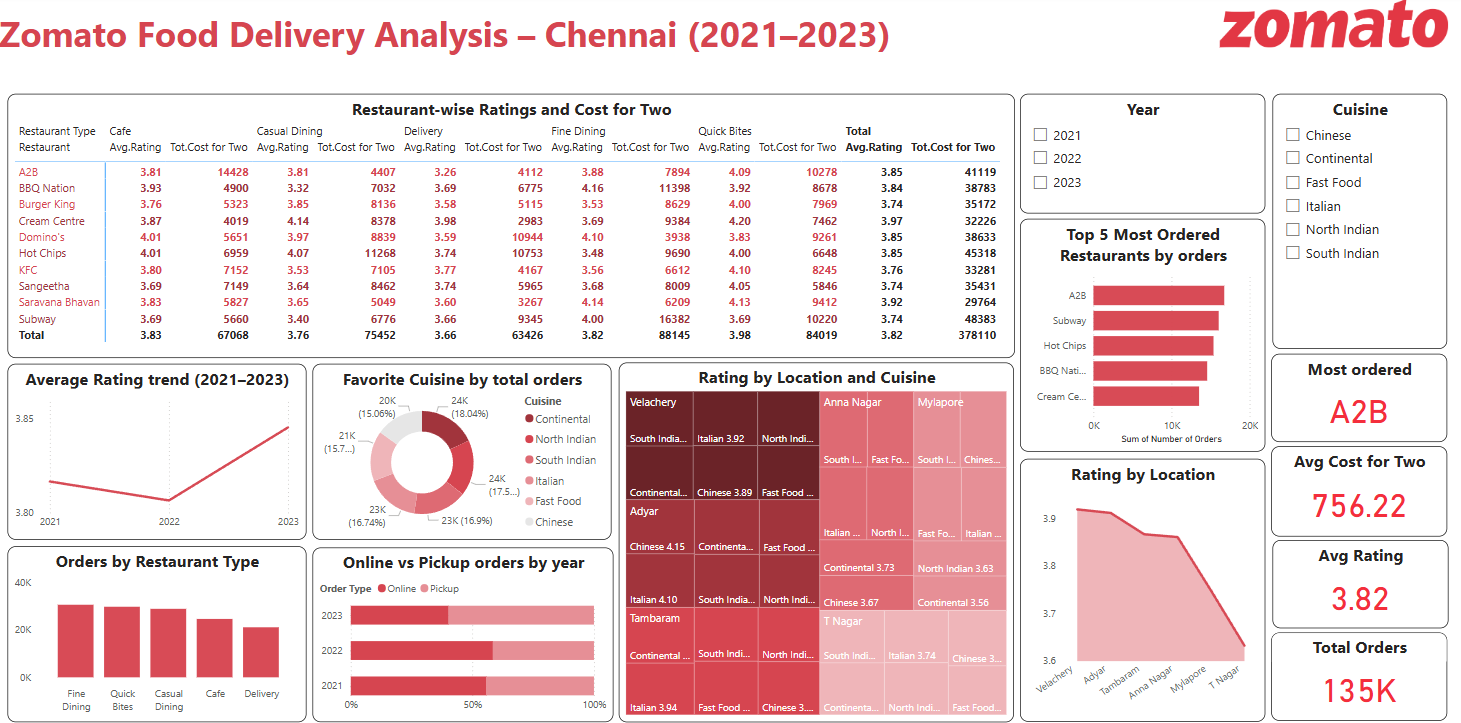

The dashboard page shown, as its layout file describes it:
{"tool":"powerbi","page":{"name":"Page 1","canvas":[1800,900],"ordinal":0},"visuals":[{"type":"textbox","box":[0,12,1136,96.1],"z":0},{"type":"clusteredBarChart","title":"Top 5 Most Ordered Restaurants by orders","fields":{"Category":["Sheet1.Restaurant"],"Y":["Sum(Sheet1.Number of Orders)"]},"box":[1253.3,273.3,300,285],"z":1000},{"type":"donutChart","title":"Favorite Cuisine by total orders","fields":{"Category":["Sheet1.Cuisine"],"Y":["Sum(Sheet1.Number of Orders)"]},"box":[388.2,450.9,365.3,215.5],"z":2000},{"type":"lineChart","title":"Average Rating trend (2021–2023)","fields":{"Category":["Sheet1.Year"],"Y":["Avg(Sheet1.Rating)"]},"box":[15.3,450.9,365.3,215.5],"z":3000},{"type":"clusteredColumnChart","title":"Orders by Restaurant Type","fields":{"Category":["Sheet1.Restaurant Type"],"Y":["Sum(Sheet1.Number of Orders)"]},"box":[15.3,674.1,365.3,215.5],"z":4000},{"type":"hundredPercentStackedBarChart","title":"Online vs Pickup orders by year","fields":{"Category":["Sheet1.Year"],"Series":["Sheet1.Order Type"],"Y":["Sum(Sheet1.Number of Orders)"]},"box":[388.2,675.6,368.4,214],"z":5000},{"type":"card","title":"Total Orders","fields":{"Values":["Sum(Sheet1.Number of Orders)"]},"box":[1560,780,215,108.3],"z":6000},{"type":"card","title":"Avg Cost for Two","fields":{"Values":["Avg(Sheet1.Cost for Two)"]},"box":[1560,552,215,110],"z":7000},{"type":"card","title":"Avg Rating","fields":{"Values":["Avg(Sheet1.Rating)"]},"box":[1561.7,666.7,215,108.3],"z":8000},{"type":"treemap","title":"Rating by Location and Cuisine","fields":{"Group":["Sheet1.Location"],"Values":["Avg(Sheet1.Rating)"],"Details":["Sheet1.Cuisine"]},"box":[763.3,450,483.3,440],"z":9000},{"type":"pivotTable","title":"Restaurant-wise Ratings and Cost for Two","fields":{"Values":["Avg(Sheet1.Rating)","Sum(Sheet1.Cost for Two)"],"Rows":["Sheet1.Restaurant"],"Columns":["Sheet1.Restaurant Type"]},"box":[15,120,1231.7,323.3],"z":10000},{"type":"slicer","title":"Year","fields":{"Values":["Sheet1.Year"]},"box":[1253.3,120,300,146.7],"z":11000},{"type":"card","title":"Most ordered","fields":{"Values":["Min(Sheet1.Restaurant)"]},"box":[1560,439,215,108.3],"z":12000},{"type":"areaChart","title":"Rating by Location","fields":{"Category":["Sheet1.Location"],"Y":["Avg(Sheet1.Rating)"]},"box":[1253,566.7,300,321.7],"z":13000},{"type":"slicer","title":"Cuisine ","fields":{"Values":["Sheet1.Cuisine"]},"box":[1561.7,120,213.3,311.7],"z":14000},{"type":"image","box":[1487.3,0,299.6,68.8],"z":15000}]}

Visuals, with their boxes in screenshot pixels (x1, y1, x2, y2), scaled from the page's 1800x900 canvas onto the 1461x723 screenshot:
textbox: [0,10,922,87]
"Top 5 Most Ordered Restaurants by orders" clusteredBarChart: [1017,220,1261,449]
"Favorite Cuisine by total orders" donutChart: [315,362,612,535]
"Average Rating trend (2021–2023)" lineChart: [12,362,309,535]
"Orders by Restaurant Type" clusteredColumnChart: [12,542,309,715]
"Online vs Pickup orders by year" hundredPercentStackedBarChart: [315,543,614,715]
"Total Orders" card: [1266,627,1441,714]
"Avg Cost for Two" card: [1266,443,1441,532]
"Avg Rating" card: [1268,536,1442,623]
"Rating by Location and Cuisine" treemap: [620,362,1012,715]
"Restaurant-wise Ratings and Cost for Two" pivotTable: [12,96,1012,356]
"Year" slicer: [1017,96,1261,214]
"Most ordered" card: [1266,353,1441,440]
"Rating by Location" areaChart: [1017,455,1261,714]
"Cuisine " slicer: [1268,96,1441,347]
image: [1207,0,1450,55]
